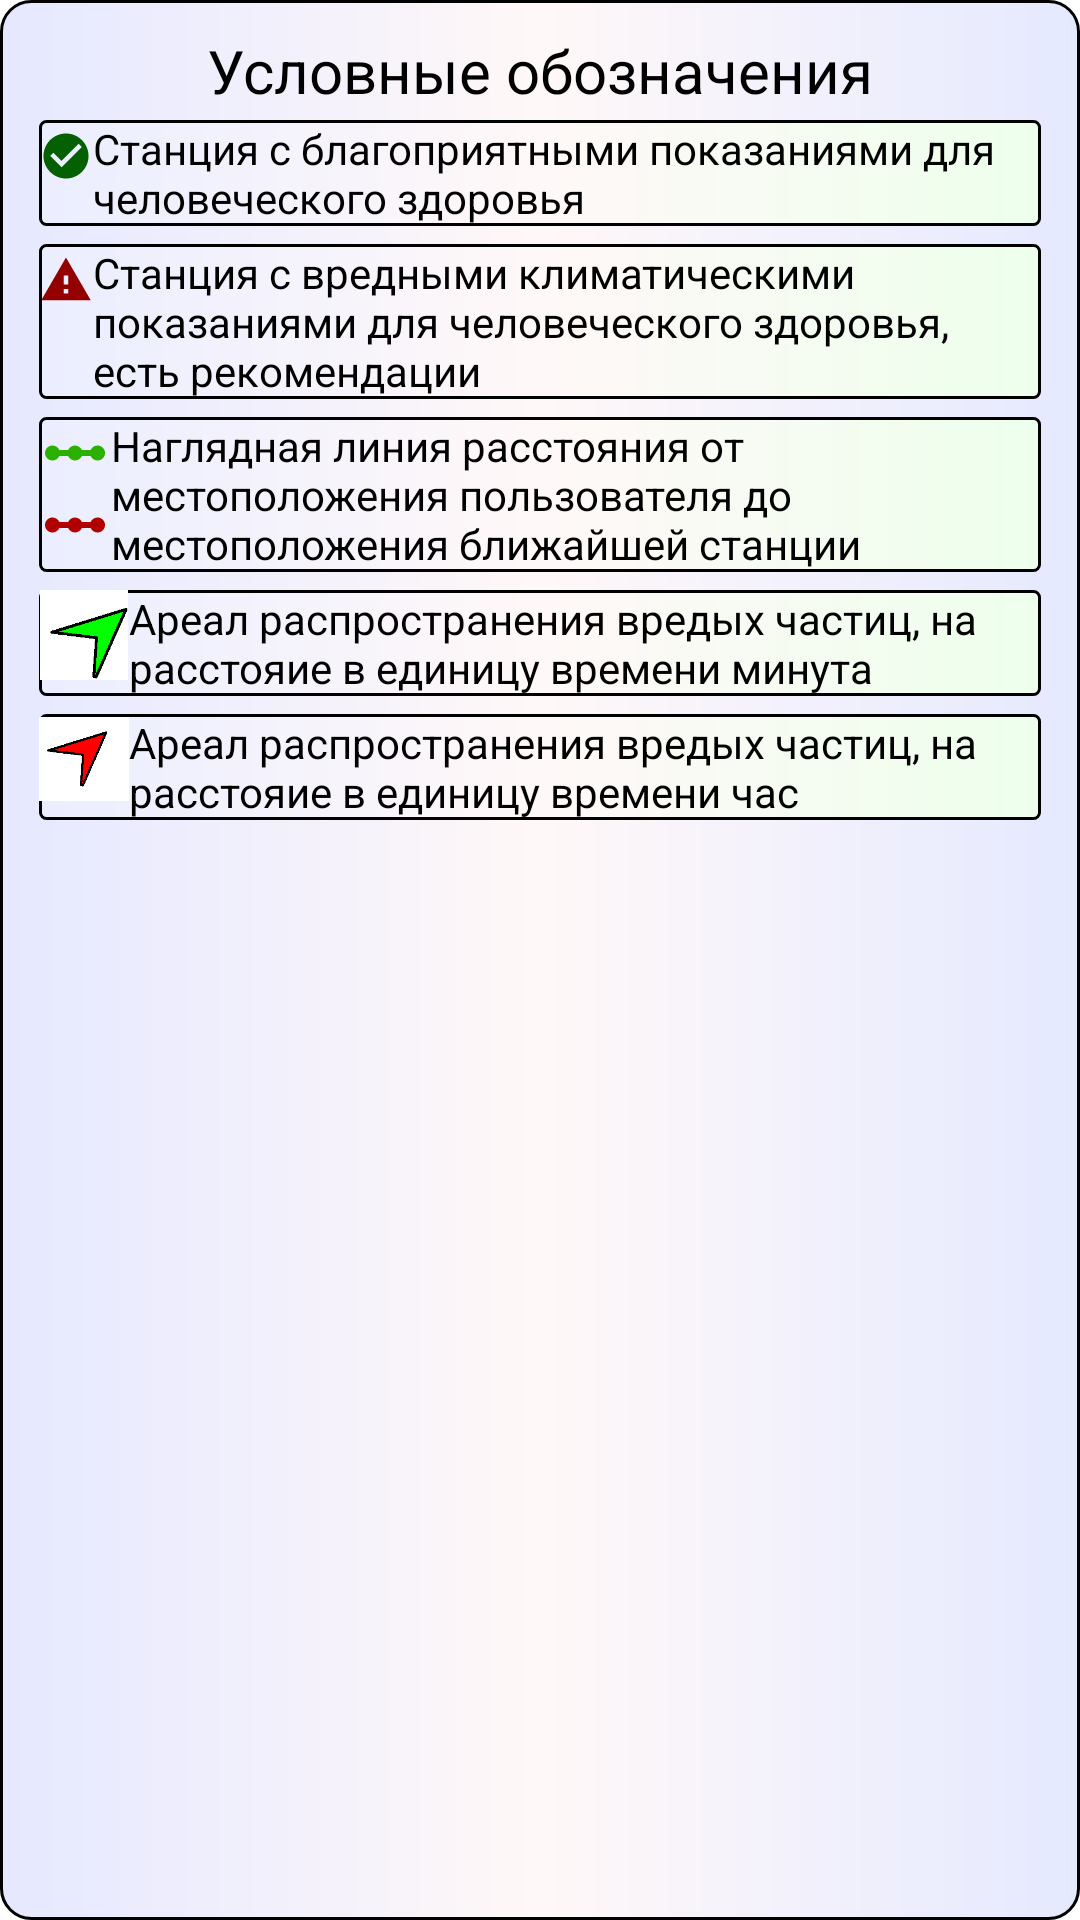

Icons on this 1080px x 1920px Android screen, each with the point to tap as (x=x, y=y):
arrow: (x=84, y=635), (x=84, y=759)
warning: (x=66, y=280)
